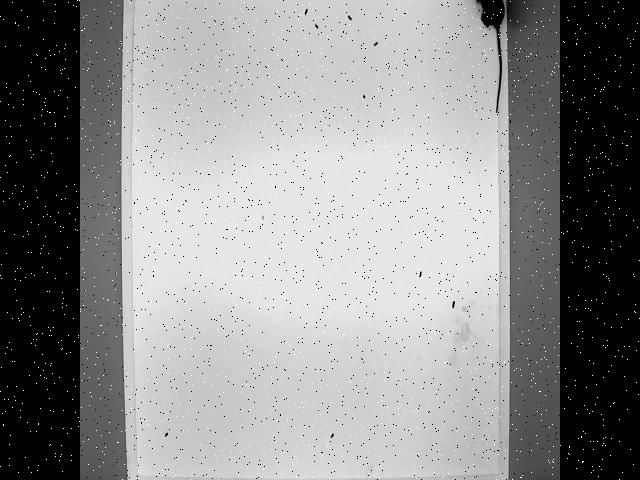Tikus: (468, 0, 507, 114)
